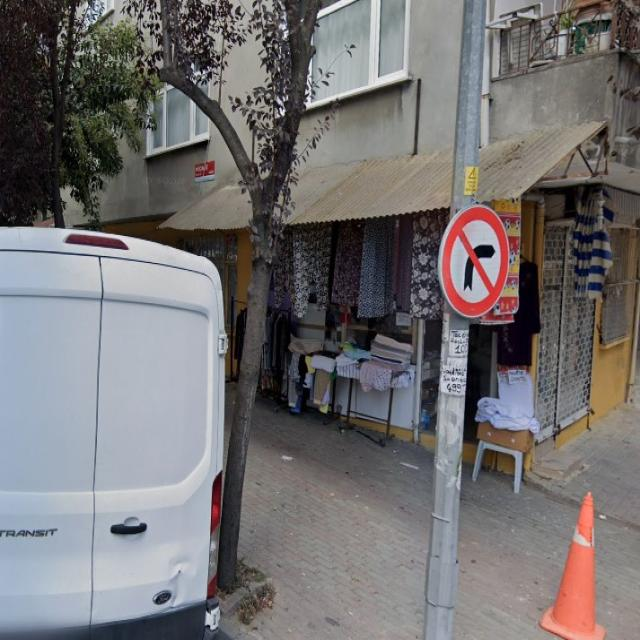sagadonulmez: (440, 205, 510, 315)
